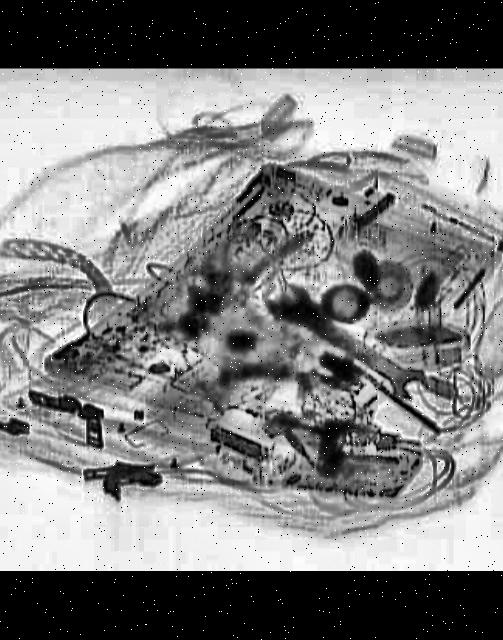Wrench: (261, 279, 434, 406)
